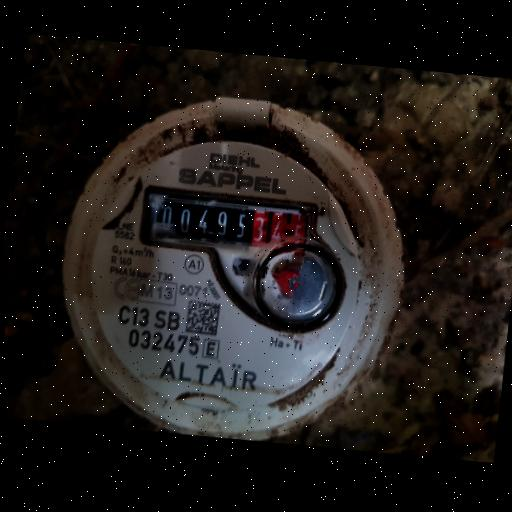0: (155, 200, 178, 239), (175, 202, 196, 241)
3: (250, 209, 270, 248)
4: (195, 203, 214, 243), (268, 212, 287, 250)
5: (232, 207, 252, 246), (288, 212, 307, 242)
9: (213, 206, 233, 246)
border_water_meter_number: (148, 191, 310, 261)
